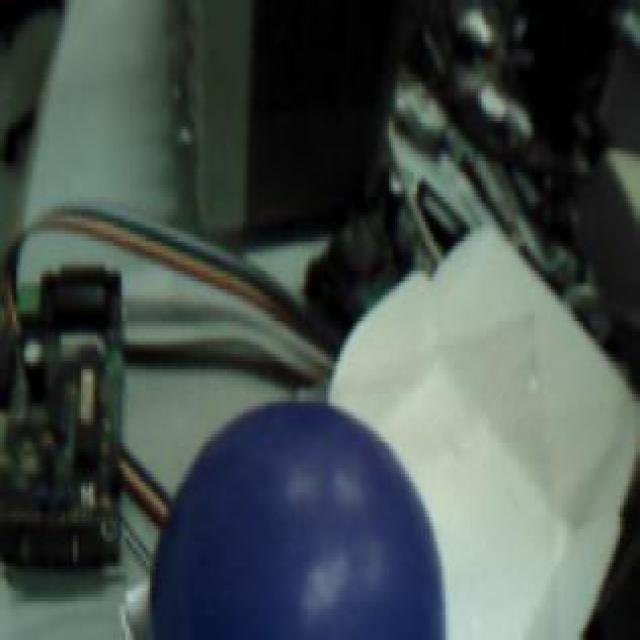BallPurple: (148, 402, 447, 640)
